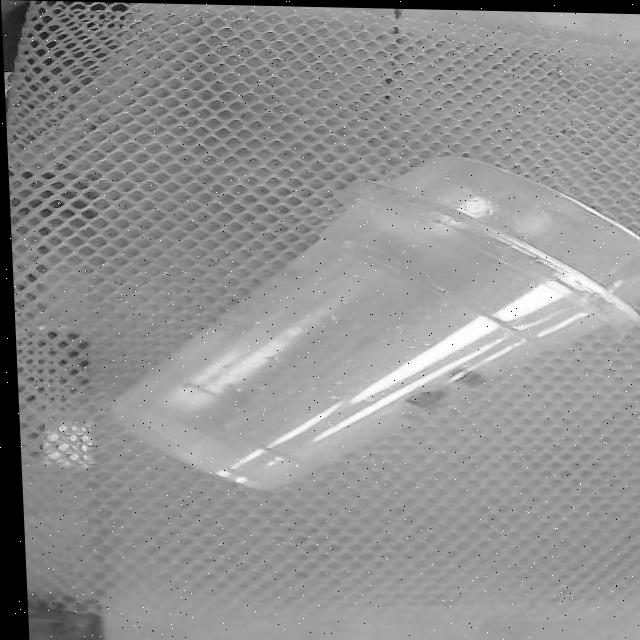cup: (111, 157, 640, 488)
